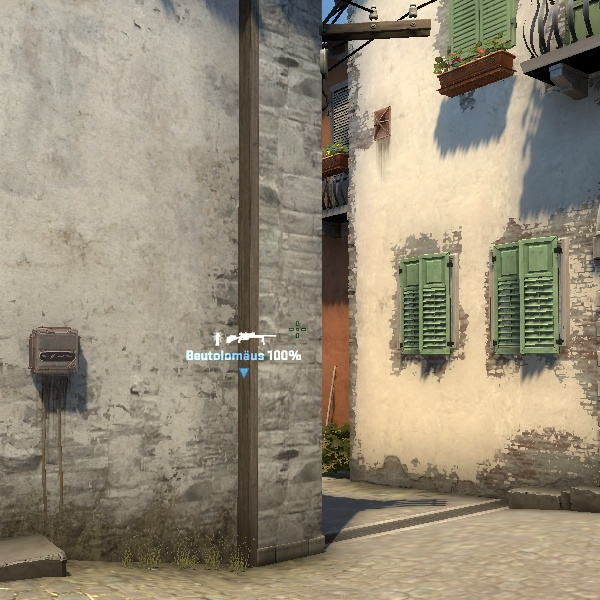t_body: (312, 152, 358, 215)
